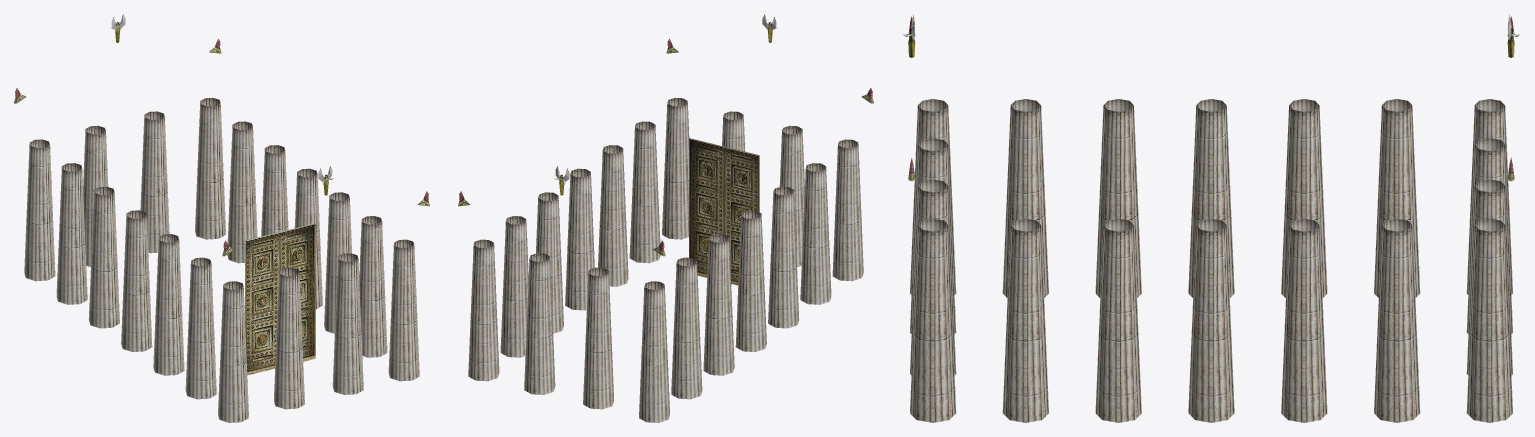
Rendered from hele_temple_a_props.dae.
The picture shows the model from 3 angles, left to right: view 1: azimuth 30°, elevation 25°; view 2: azimuth 150°, elevation 25°; view 3: azimuth 270°, elevation 25°; orthographic projection. The views are drawn at different scales.
Parts seen in each view (by area): view 1: Object04; view 2: Object04; view 3: Object04.
Part boxes in pixels (left/top/right/bottom): Object04: left=14, top=14, right=429, bottom=422; Object04: left=458, top=14, right=873, bottom=422; Object04: left=903, top=15, right=1519, bottom=422.
Size of the model in its own units: 15.11 by 27.11 by 16.26.
